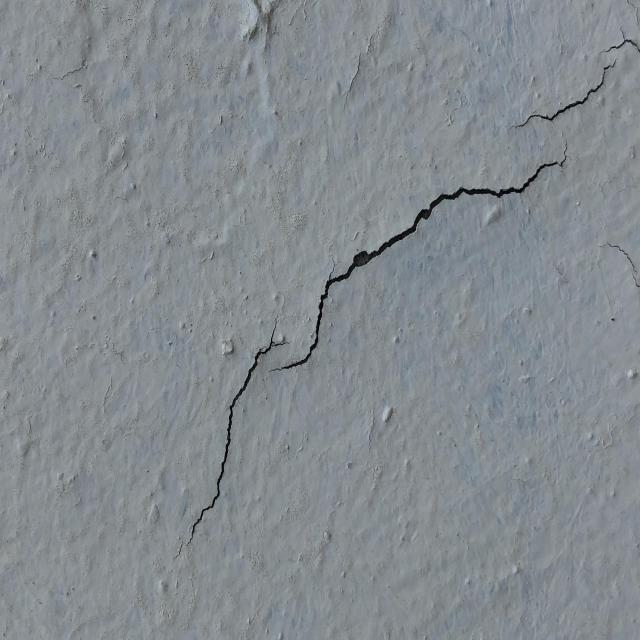SurfaceCrack: (27, 2, 639, 628)
